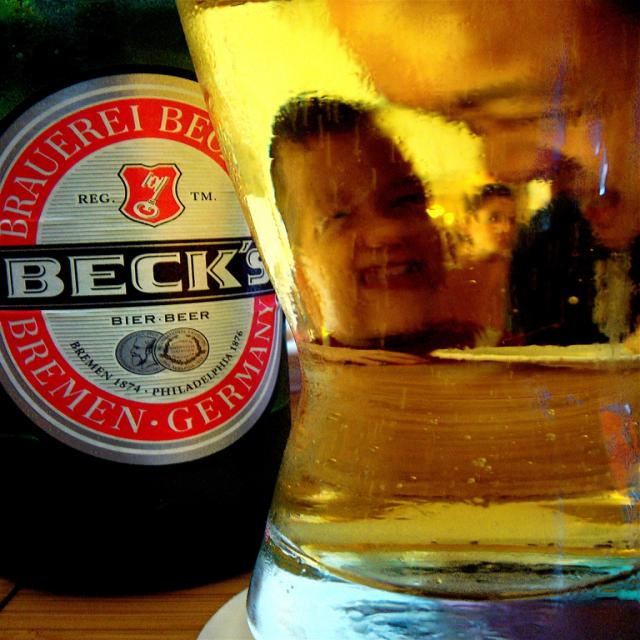becks: (2, 74, 286, 466)
